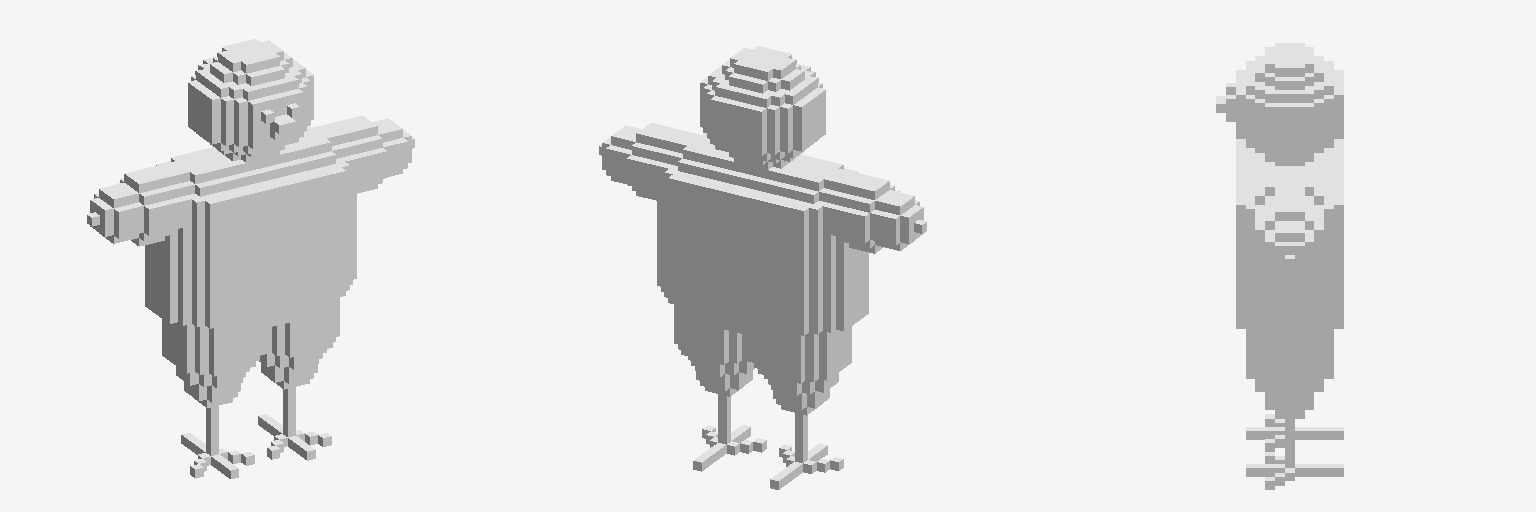
File: chirpus.obj
3 renders of one model, left to right at view 1: azimuth 30°, elevation 25°; view 2: azimuth 150°, elevation 25°; view 3: azimuth 270°, elevation 25°, orthographic.
Size of the model in its own units: 38 by 45 by 13.